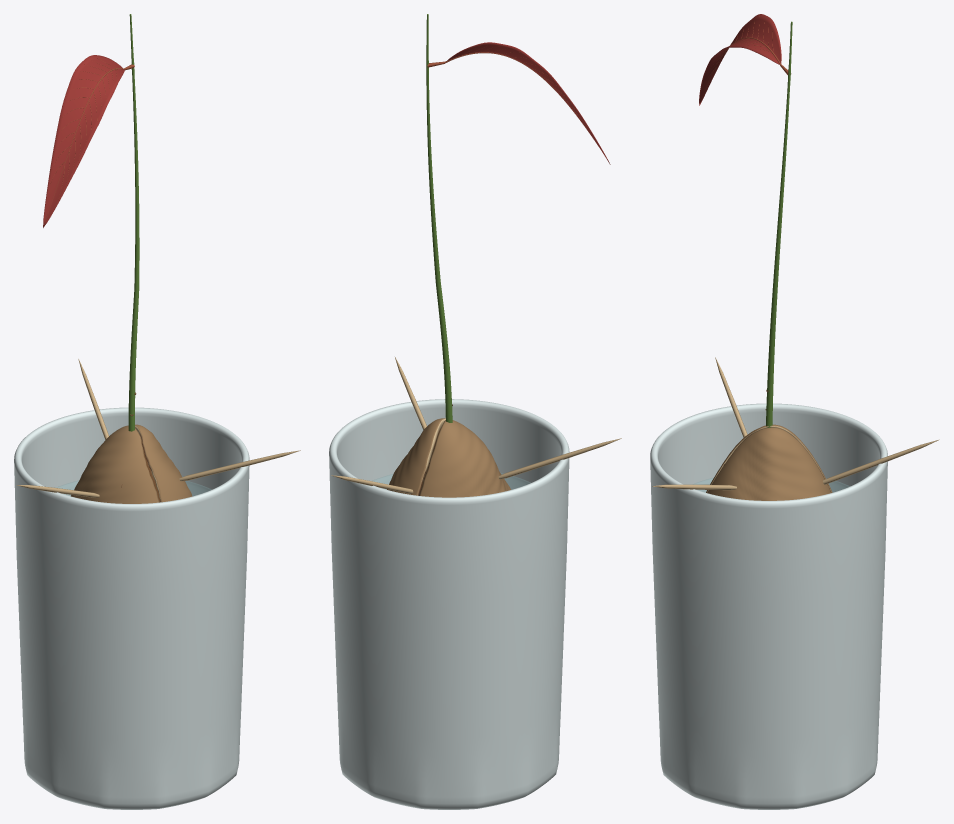
Rendered from leaf.glb.
The picture shows the model from 3 angles, left to right: view 1: azimuth 30°, elevation 25°; view 2: azimuth 150°, elevation 25°; view 3: azimuth 270°, elevation 25°; orthographic projection. The views are drawn at different scales.
Parts seen in each view (by area): view 1: Стакан · венчик и гранёное дно, Лист · пластинка, Семядоля, Стебель, Семядоля.001, Зубочистка.002; view 2: Стакан · венчик и гранёное дно, Семядоля, Стебель, Семядоля.001, Лист · пластинка, Зубочистка.001; view 3: Стакан · венчик и гранёное дно, Семядоля.001, Лист · пластинка, Стебель, Зубочистка.
Boxes of the visible parts, x1=… form: Стакан · венчик и гранёное дно: x1=14, y1=407, x2=249, y2=809; Лист · пластинка: x1=43, y1=55, x2=124, y2=227; Семядоля: x1=71, y1=425, x2=159, y2=503; Стебель: x1=128, y1=14, x2=139, y2=431; Семядоля.001: x1=135, y1=424, x2=192, y2=502; Зубочистка.002: x1=179, y1=450, x2=300, y2=481; Стакан · венчик и гранёное дно: x1=329, y1=399, x2=569, y2=809; Семядоля: x1=419, y1=420, x2=510, y2=497; Стебель: x1=426, y1=14, x2=452, y2=422; Семядоля.001: x1=387, y1=418, x2=445, y2=495; Лист · пластинка: x1=446, y1=42, x2=610, y2=164; Зубочистка.001: x1=498, y1=438, x2=621, y2=479; Стакан · венчик и гранёное дно: x1=650, y1=403, x2=887, y2=809; Семядоля.001: x1=707, y1=427, x2=831, y2=500; Лист · пластинка: x1=699, y1=14, x2=781, y2=105; Стебель: x1=766, y1=21, x2=792, y2=427; Зубочистка: x1=823, y1=439, x2=939, y2=484.
Bounding box in the file's own units: 0.0932 × 0.2613 × 0.0913.
